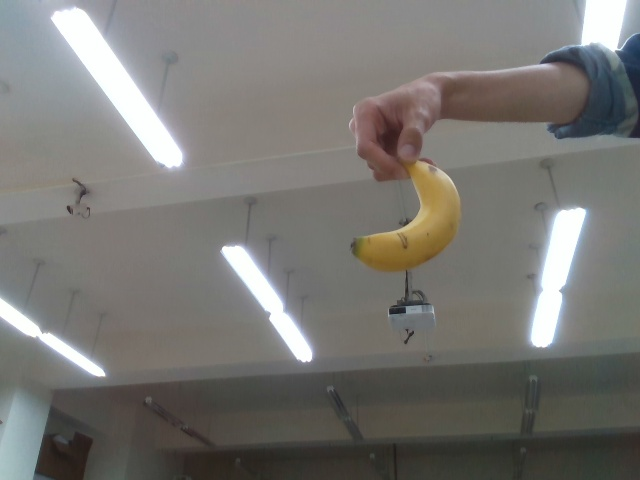banana: (350, 159, 464, 274)
